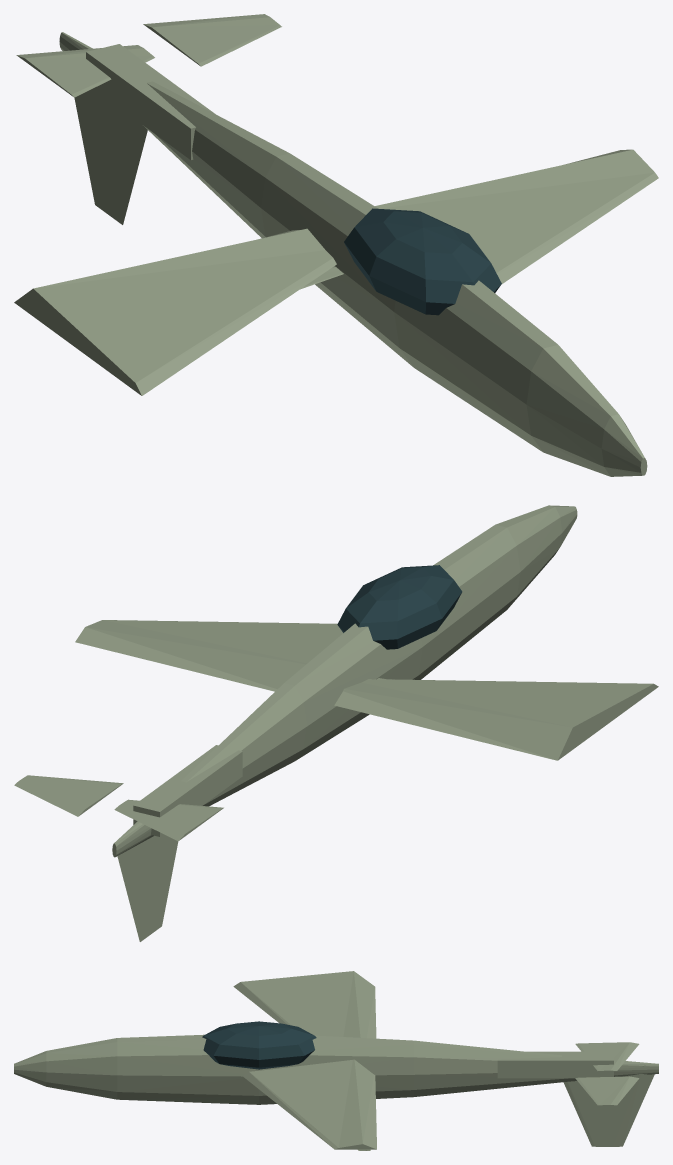
The picture shows the model from 3 angles, top to bottom: view 1: azimuth 30°, elevation 25°; view 2: azimuth 150°, elevation 25°; view 3: azimuth 270°, elevation 25°; orthographic projection. The views are drawn at different scales.
Visible parts, largest first — view 1: Fuselage, Wing_L, Wing_R, Cockpit, Rudder, TailBoom, Elevator_R, Elevator_L; view 2: Fuselage, Wing_L, Wing_R, Cockpit, Rudder, TailBoom, Elevator_R, Elevator_L; view 3: Fuselage, Wing_R, Wing_L, Cockpit, Rudder, TailBoom, Elevator_R, Elevator_L.
Boxes of the visible parts, x1=… form: Fuselage: x1=59, y1=32, x2=647, y2=476; Wing_L: x1=14, y1=228, x2=336, y2=395; Wing_R: x1=375, y1=149, x2=658, y2=284; Cockpit: x1=344, y1=208, x2=501, y2=315; Rudder: x1=74, y1=88, x2=147, y2=224; TailBoom: x1=86, y1=44, x2=214, y2=159; Elevator_R: x1=143, y1=14, x2=281, y2=66; Elevator_L: x1=16, y1=45, x2=154, y2=97; Fuselage: x1=112, y1=505, x2=577, y2=857; Wing_L: x1=334, y1=679, x2=658, y2=760; Wing_R: x1=75, y1=620, x2=343, y2=691; Cockpit: x1=337, y1=565, x2=462, y2=649; Rudder: x1=117, y1=834, x2=178, y2=941; TailBoom: x1=133, y1=745, x2=242, y2=836; Elevator_R: x1=14, y1=775, x2=123, y2=816; Elevator_L: x1=114, y1=799, x2=223, y2=841; Fuselage: x1=14, y1=1034, x2=658, y2=1104; Wing_R: x1=243, y1=1059, x2=376, y2=1149; Wing_L: x1=233, y1=971, x2=376, y2=1038; Cockpit: x1=202, y1=1021, x2=316, y2=1069; Rudder: x1=563, y1=1065, x2=654, y2=1146; TailBoom: x1=497, y1=1051, x2=613, y2=1078; Elevator_R: x1=575, y1=1076, x2=639, y2=1105; Elevator_L: x1=575, y1=1042, x2=639, y2=1071.
Size of the model in its own units: 9.07 by 3.1 by 15.03.
